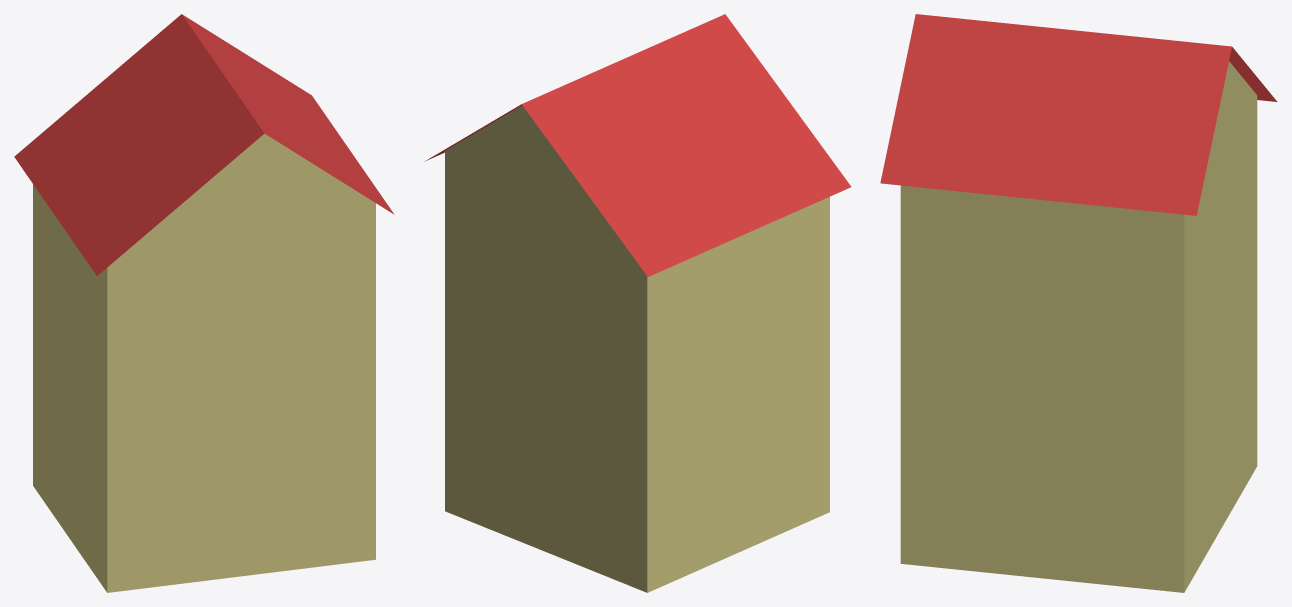
3 renders of one model, left to right at view 1: azimuth 30°, elevation 25°; view 2: azimuth 150°, elevation 25°; view 3: azimuth 270°, elevation 25°, orthographic. The views are drawn at different scales.
Bounding box in the file's own units: 6.1 × 5.91 × 8.1.
